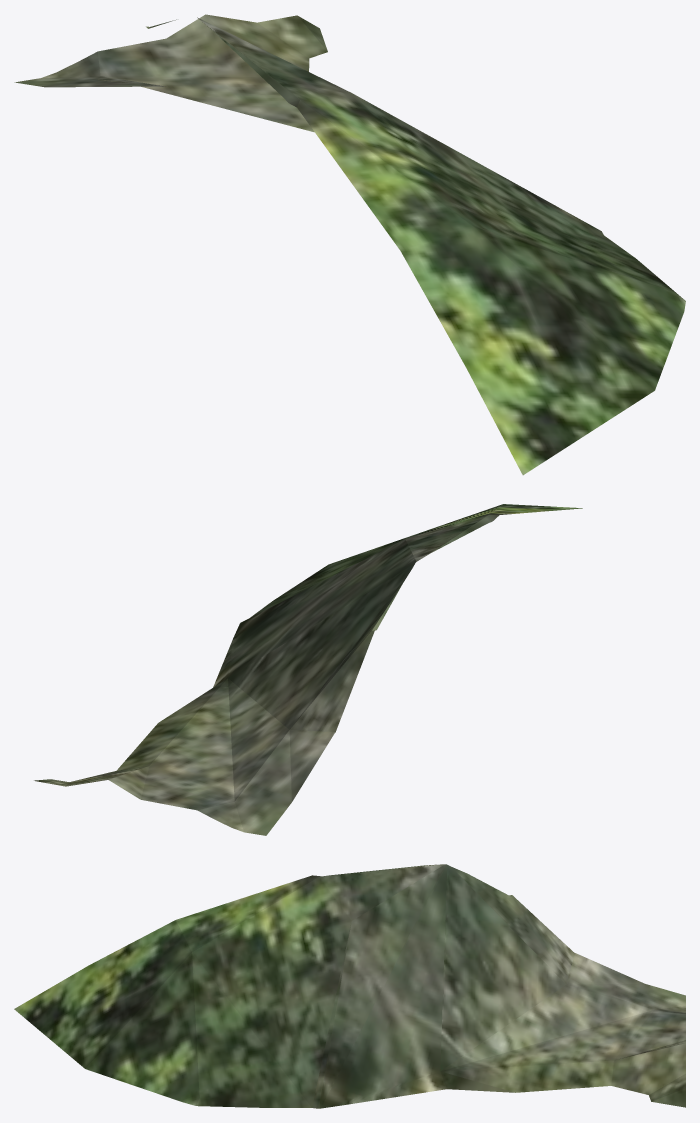
3 renders of one model, top to bottom at view 1: azimuth 30°, elevation 25°; view 2: azimuth 150°, elevation 25°; view 3: azimuth 270°, elevation 25°, orthographic. The views are drawn at different scales.
Bounding box in the file's own units: 0.9901 × 0.6712 × 2.82.
Materials: 1 (1 with a texture image).
